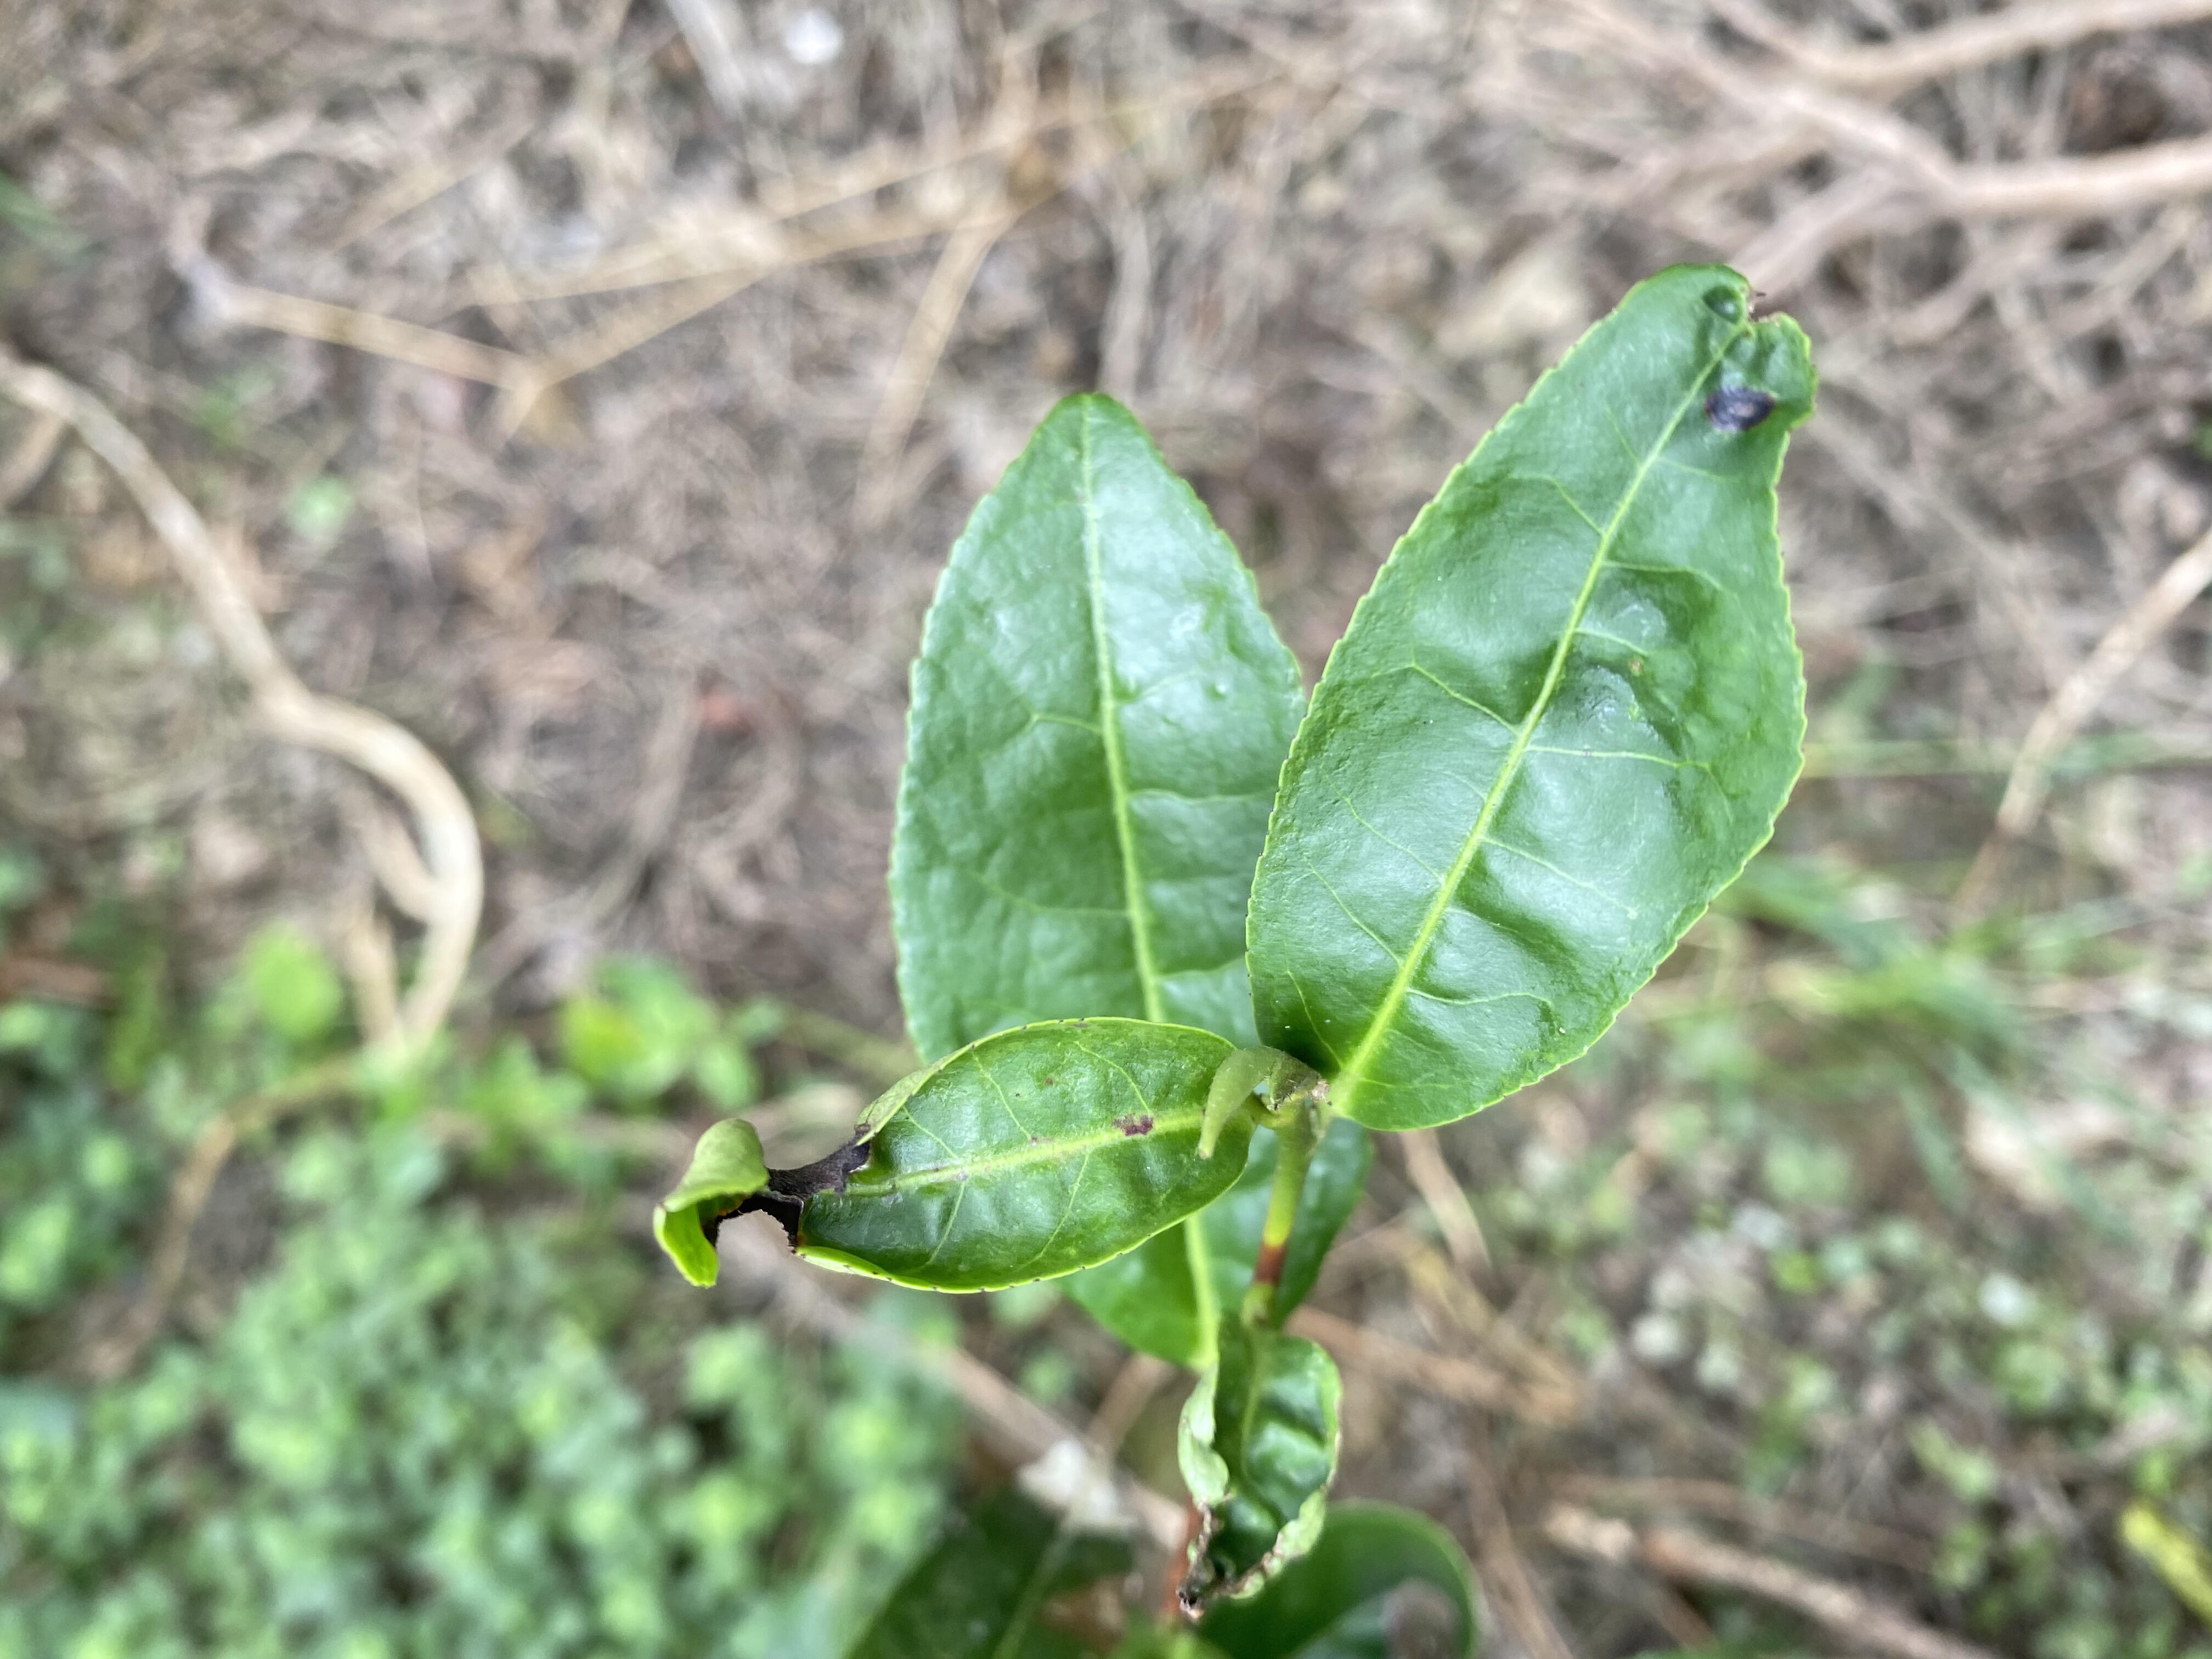tanju_low: (1245, 265, 1818, 1133)
